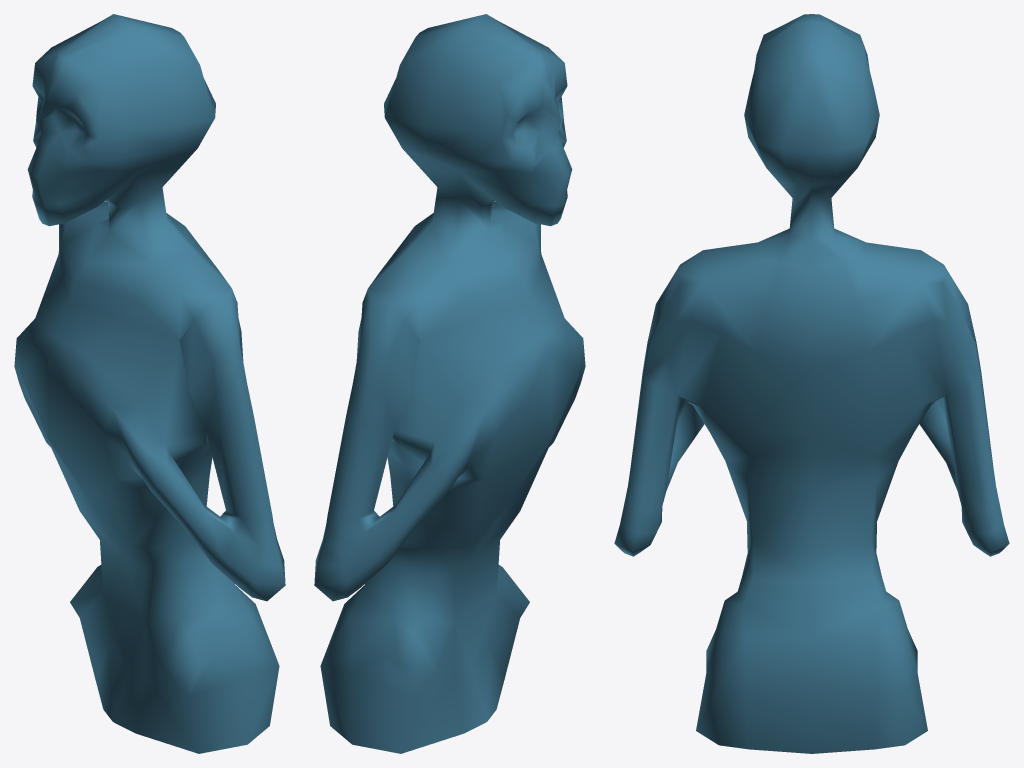
Rendered from Statue_04_Lod1.fbx.
3 renders of one model, left to right at view 1: azimuth 30°, elevation 25°; view 2: azimuth 150°, elevation 25°; view 3: azimuth 270°, elevation 25°, orthographic. The views are drawn at different scales.
Visible parts, largest first — view 1: Statue_04_Lod1; view 2: Statue_04_Lod1; view 3: Statue_04_Lod1.
Part boxes in pixels (bbox=[...]): Statue_04_Lod1: bbox=[14, 14, 285, 753]; Statue_04_Lod1: bbox=[314, 14, 585, 753]; Statue_04_Lod1: bbox=[614, 14, 1009, 753].
Bounding box in the file's own units: 49.8 × 159 × 83.29.
